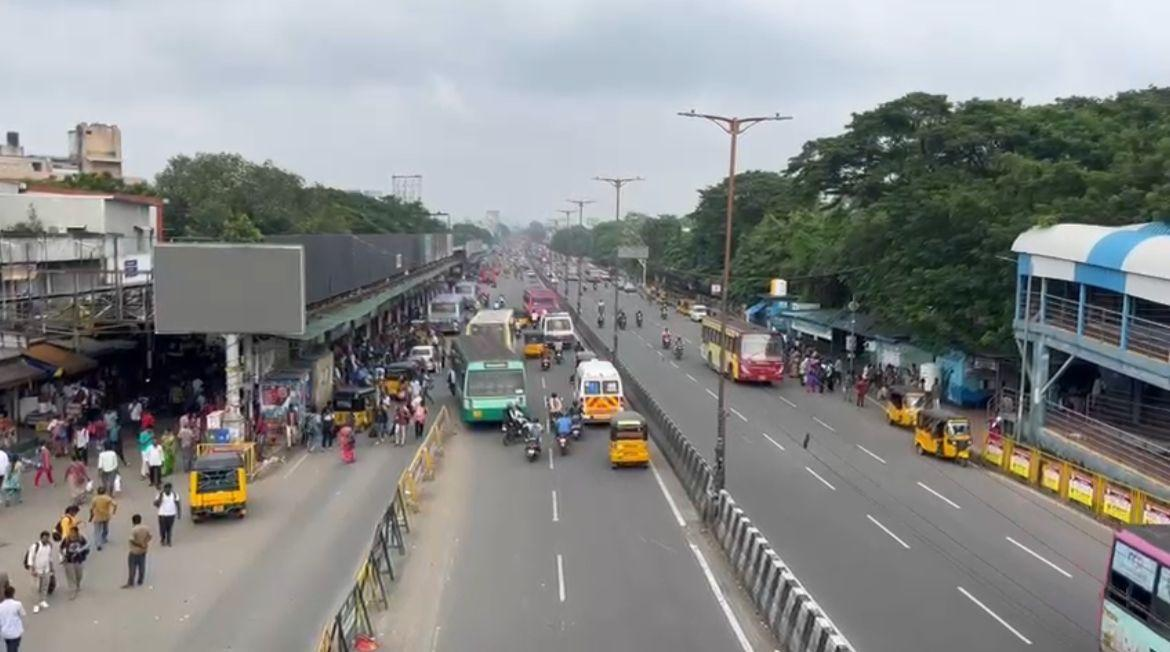ambulance: (574, 359, 630, 418)
